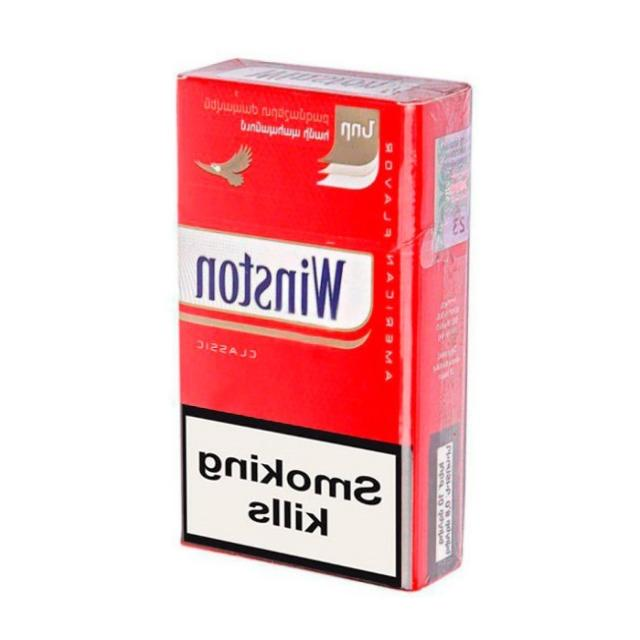winston: (166, 48, 479, 596)
